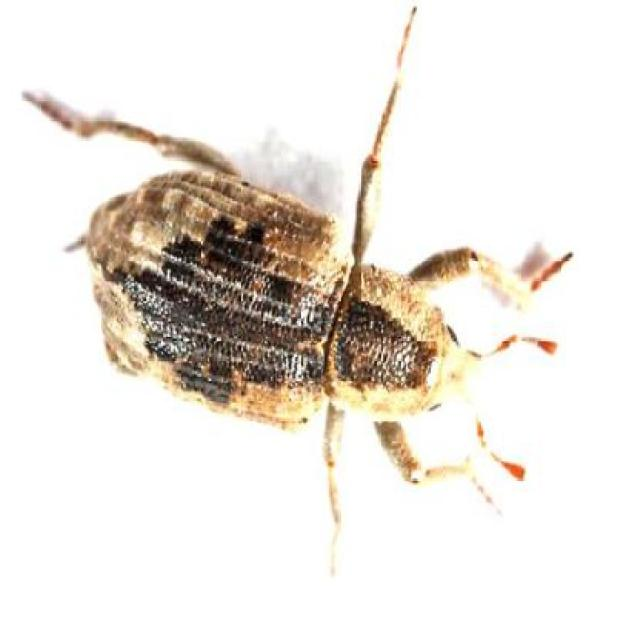rice-bug: (81, 136, 533, 458)
